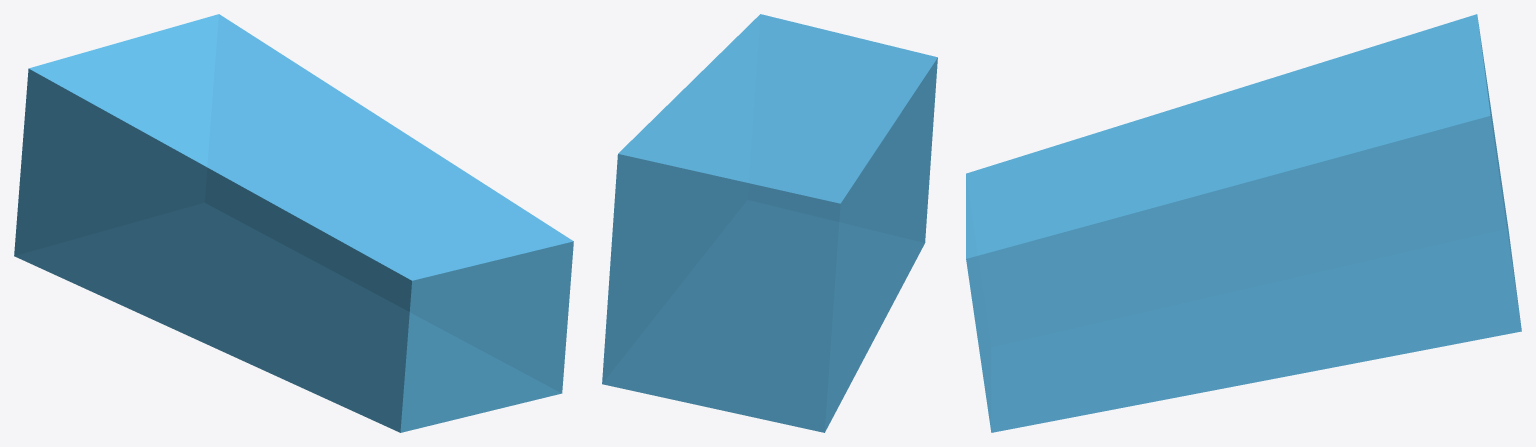
File: Event_421364160_HBrechit_9.fbx
The picture shows the model from 3 angles, left to right: view 1: azimuth 30°, elevation 25°; view 2: azimuth 150°, elevation 25°; view 3: azimuth 270°, elevation 25°; orthographic projection. The views are drawn at different scales.
Parts seen in each view (by area): view 1: Model; view 2: Model; view 3: Model.
Part boxes in pixels (x1,y1,x2,y2): Model: (14,14,573,432); Model: (602,14,937,432); Model: (966,14,1521,432).
Bounding box in the file's own units: 0.8019 × 0.5901 × 1.15.
